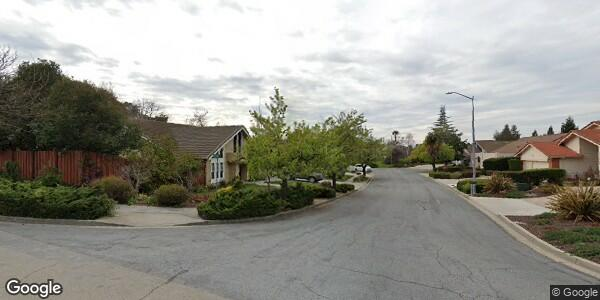Steel_Pole: (444, 90, 477, 195)
